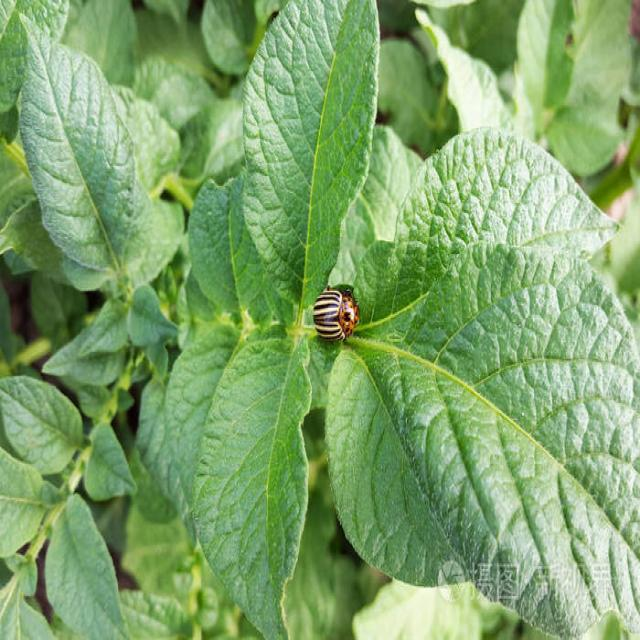ShuCaiHuaBanChong-Grown-: (308, 277, 364, 345)
